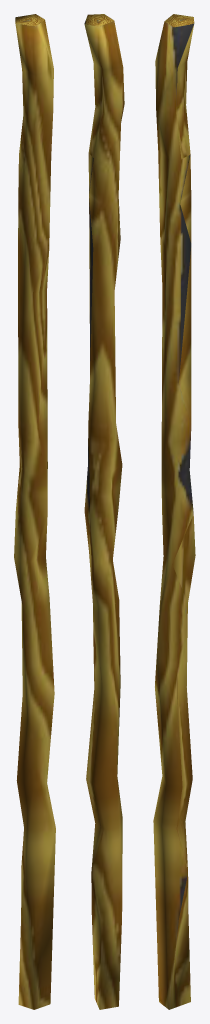
File: STAFF.obj
3 renders of one model, left to right at view 1: azimuth 90°, elevation 25°; view 2: azimuth 150°, elevation 25°; view 3: azimuth 270°, elevation 25°, orthographic.
Visible parts, largest first — view 1: staff; view 2: staff; view 3: staff.
Part boxes in pixels (box(x1,y1,x2,y2)): staff: box(14, 14, 55, 1009); staff: box(84, 14, 124, 1009); staff: box(153, 14, 195, 1009).
Size of the model in its own units: 5.01 by 134 by 5.19.
